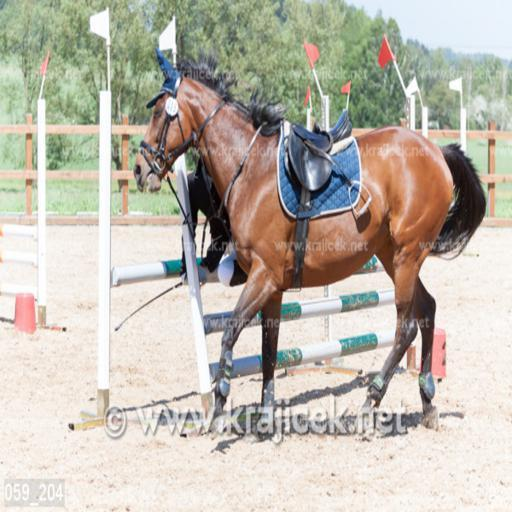horse: (133, 42, 489, 447)
